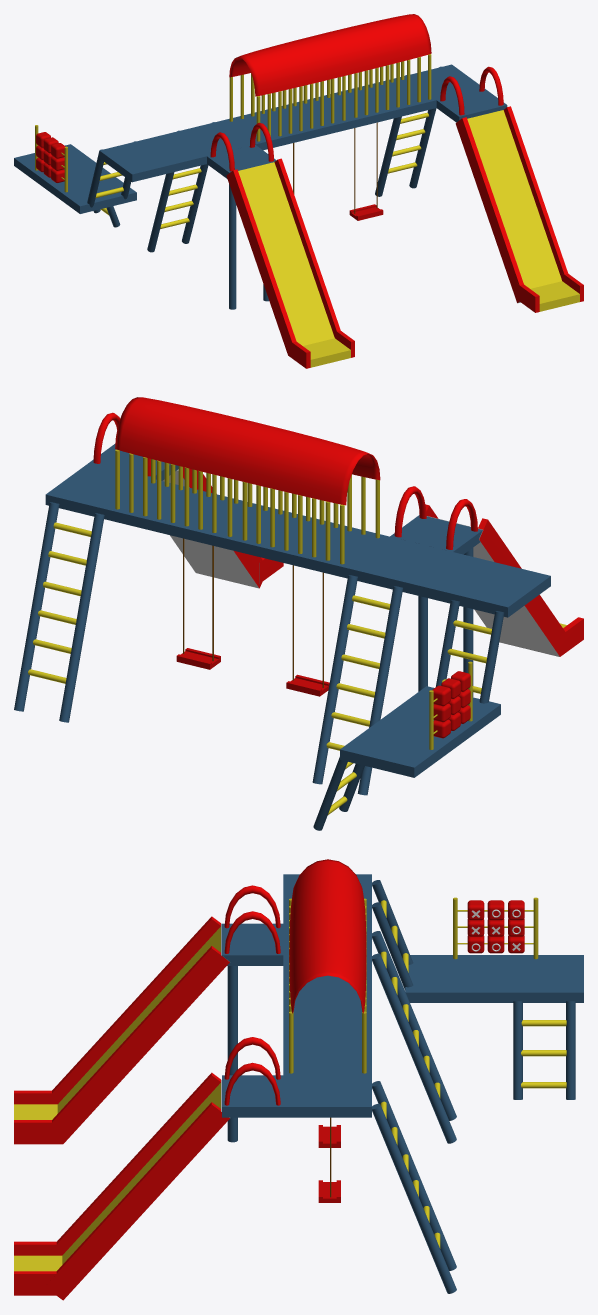
Rendered from Slide.fbx.
The picture shows the model from 3 angles, top to bottom: view 1: azimuth 30°, elevation 25°; view 2: azimuth 150°, elevation 25°; view 3: azimuth 270°, elevation 25°; orthographic projection. The views are drawn at different scales.
Parts seen in each view (by area): view 1: polySurface16, polySurface4, polySurface72, polySurface53, polySurface66, polySurface2, polySurface52, polySurface73, polySurface13, polySurface17, polySurface6, polySurface5 (+1 smaller); view 2: polySurface16, polySurface53, polySurface66, polySurface52, polySurface2, polySurface4, polySurface72, pCylinder14, polySurface6, pCylinder15, polySurface17, polySurface9 (+6 smaller); view 3: polySurface16, polySurface4, polySurface72, polySurface53, polySurface66, polySurface2, polySurface52, pCylinder15, polySurface17, polySurface13, polySurface6, polySurface73 (+6 smaller).
Boxes of the visible parts, x1=… form: polySurface16: x1=99, y1=64, x2=479, y2=182; polySurface4: x1=226, y1=158, x2=340, y2=354; polySurface72: x1=455, y1=106, x2=568, y2=303; polySurface53: x1=229, y1=14, x2=431, y2=96; polySurface66: x1=14, y1=144, x2=136, y2=213; polySurface2: x1=147, y1=122, x2=214, y2=252; polySurface52: x1=375, y1=66, x2=441, y2=196; polySurface73: x1=517, y1=273, x2=583, y2=312; polySurface13: x1=288, y1=329, x2=354, y2=368; polySurface17: x1=436, y1=89, x2=507, y2=122; polySurface6: x1=207, y1=145, x2=276, y2=178; polySurface5: x1=229, y1=184, x2=236, y2=309; polySurface16: x1=45, y1=463, x2=550, y2=617; polySurface53: x1=115, y1=397, x2=380, y2=505; polySurface66: x1=340, y1=686, x2=500, y2=777; polySurface52: x1=14, y1=502, x2=104, y2=722; polySurface2: x1=312, y1=575, x2=403, y2=795; polySurface4: x1=425, y1=504, x2=565, y2=656; polySurface72: x1=163, y1=467, x2=262, y2=588; pCylinder14: x1=436, y1=600, x2=504, y2=703; polySurface6: x1=390, y1=515, x2=482, y2=554; pCylinder15: x1=313, y1=757, x2=364, y2=830; polySurface17: x1=88, y1=444, x2=178, y2=480; polySurface9: x1=418, y1=596, x2=427, y2=691; polySurface16: x1=283, y1=874, x2=371, y2=1117; polySurface4: x1=45, y1=916, x2=229, y2=1143; polySurface72: x1=45, y1=1072, x2=229, y2=1300; polySurface53: x1=289, y1=859, x2=366, y2=1013; polySurface66: x1=405, y1=955, x2=583, y2=1002; polySurface2: x1=372, y1=931, x2=456, y2=1143; polySurface52: x1=372, y1=1081, x2=456, y2=1293; pCylinder15: x1=513, y1=1001, x2=575, y2=1099; polySurface17: x1=222, y1=1075, x2=283, y2=1117; polySurface13: x1=14, y1=1090, x2=63, y2=1144; polySurface6: x1=221, y1=923, x2=283, y2=965; polySurface73: x1=14, y1=1241, x2=62, y2=1295.
Bounding box in the file's own units: 8.61 × 5 × 8.73.
